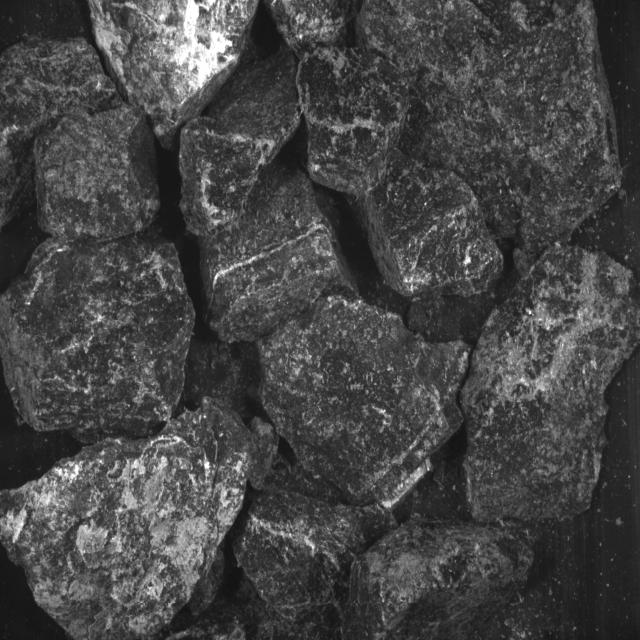Stones: (357, 1, 622, 254), (1, 400, 252, 639), (462, 246, 640, 520), (259, 297, 470, 509), (1, 235, 196, 439), (201, 161, 357, 343), (90, 1, 259, 150), (180, 50, 301, 237), (346, 520, 534, 640), (1, 39, 119, 229), (361, 150, 504, 298), (236, 491, 397, 612), (297, 48, 410, 199), (35, 107, 161, 240), (235, 491, 367, 610), (265, 1, 361, 60), (249, 417, 280, 490)
